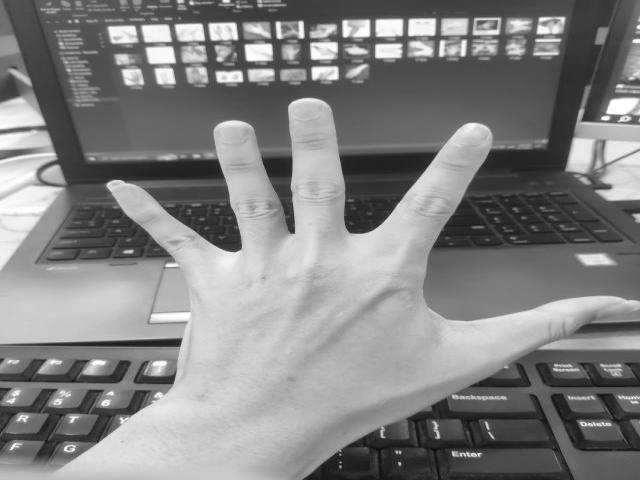not-gloved: (104, 102, 640, 422)
